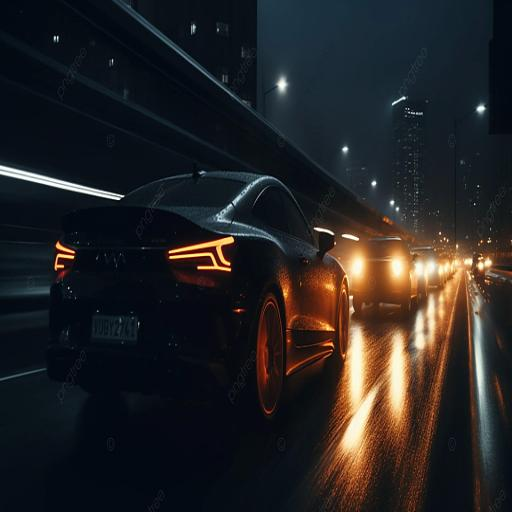car: (46, 168, 350, 422), (352, 234, 419, 317), (411, 246, 446, 289)
